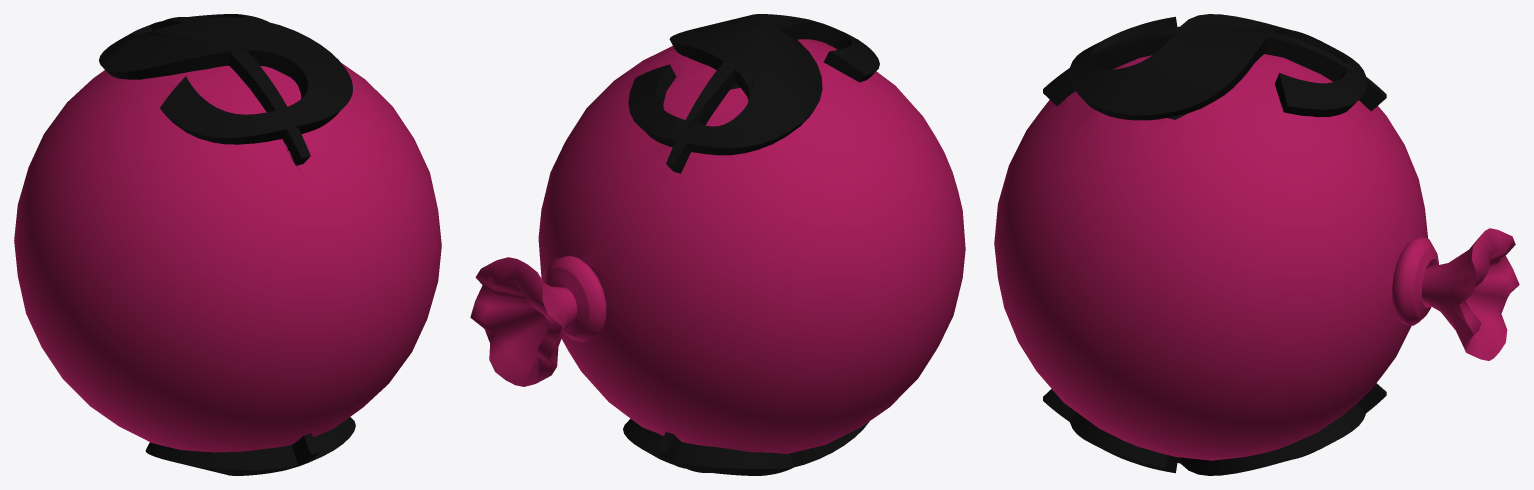
The model's file is businessPlanet.fbx.
3 renders of one model, left to right at view 1: azimuth 30°, elevation 25°; view 2: azimuth 150°, elevation 25°; view 3: azimuth 270°, elevation 25°, orthographic.
Visible parts, largest first — view 1: GeoSphere002; view 2: GeoSphere002; view 3: GeoSphere002.
Boxes of the visible parts, x1,y1,x2,y2 form: GeoSphere002: (14,14,441,475); GeoSphere002: (470,14,965,475); GeoSphere002: (994,14,1519,475).
Size of the model in its own units: 39.15 by 47.62 by 42.23.
